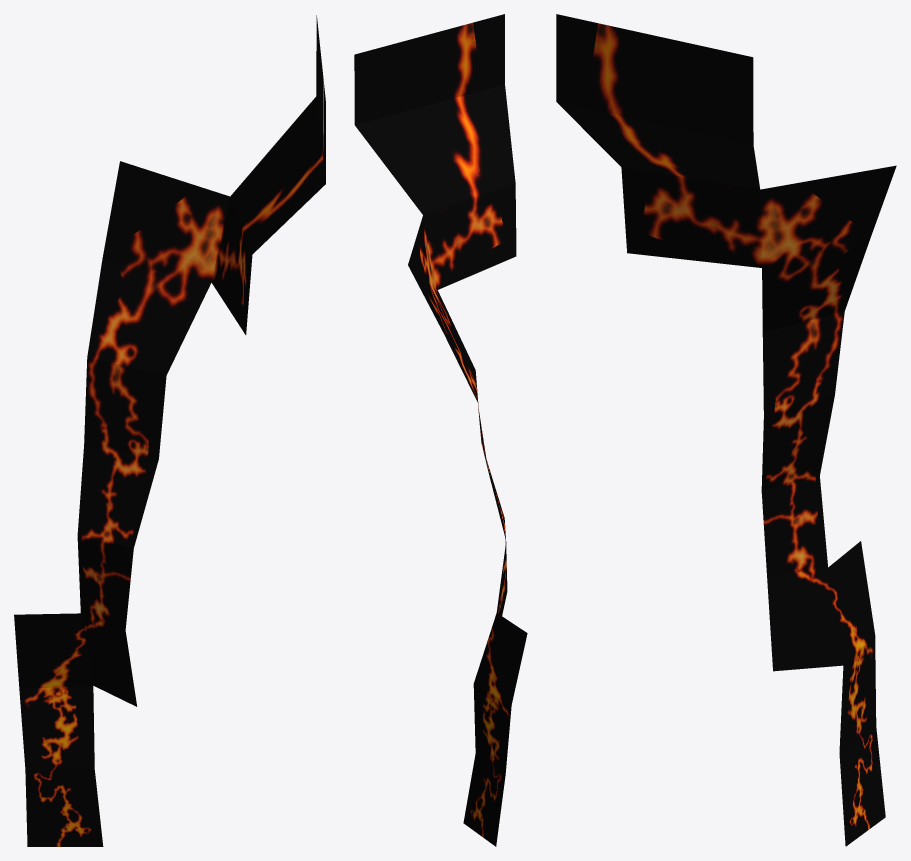
Rendered from env_LavaCracksSwitch01.fbx.
The picture shows the model from 3 angles, left to right: view 1: azimuth 30°, elevation 25°; view 2: azimuth 150°, elevation 25°; view 3: azimuth 270°, elevation 25°; orthographic projection. The views are drawn at different scales.
Visible parts, largest first — view 1: polySurface4; view 2: polySurface4; view 3: polySurface4.
Boxes of the visible parts, left/top/right/bottom form: polySurface4: left=14, top=15, right=325, bottom=846; polySurface4: left=354, top=14, right=527, bottom=846; polySurface4: left=556, top=14, right=896, bottom=846.
Bounding box in the file's own units: 1224 × 3814 × 1341.
1 material, 1 textured.
